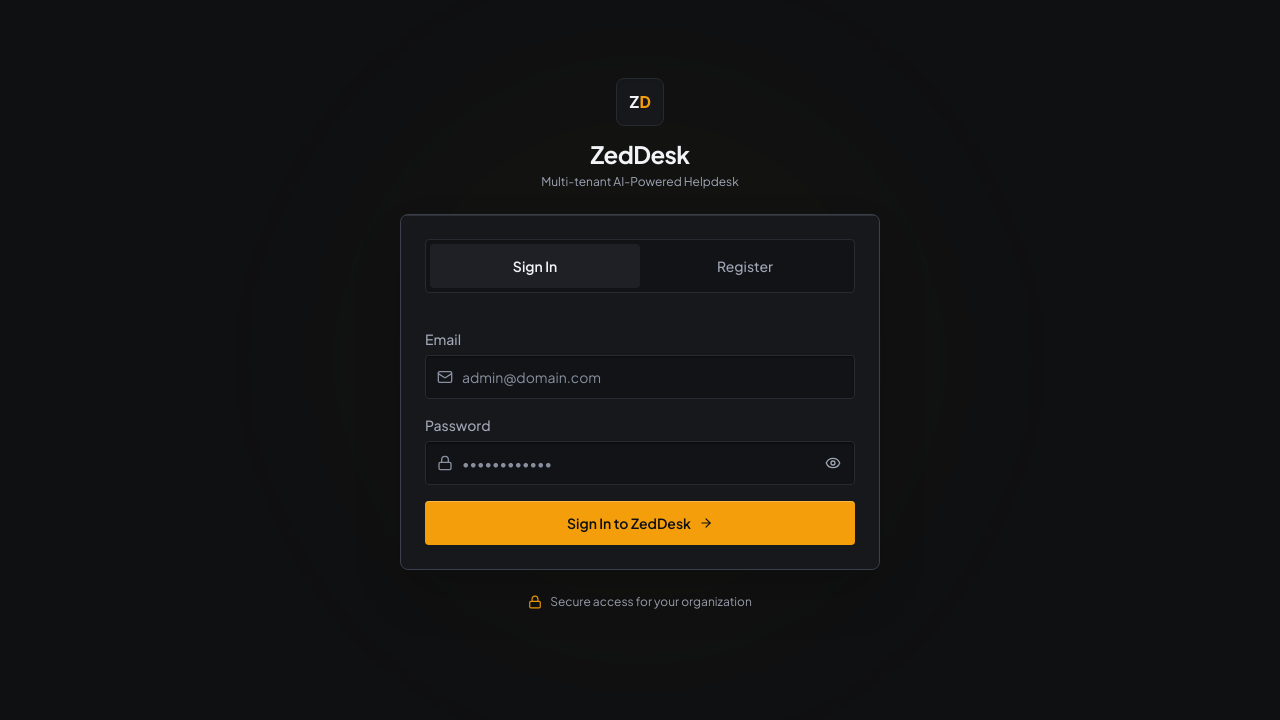
Scenario: Central Hub Authentication and Organization Flow › allows a registered user to log in, view organizations, and log out
The image size is (1280, 720).
Note: Login Form
Type "bob@example.com" into the field labelled "Email" at (640, 377), box top-left (425, 355), bottom-right (855, 399)
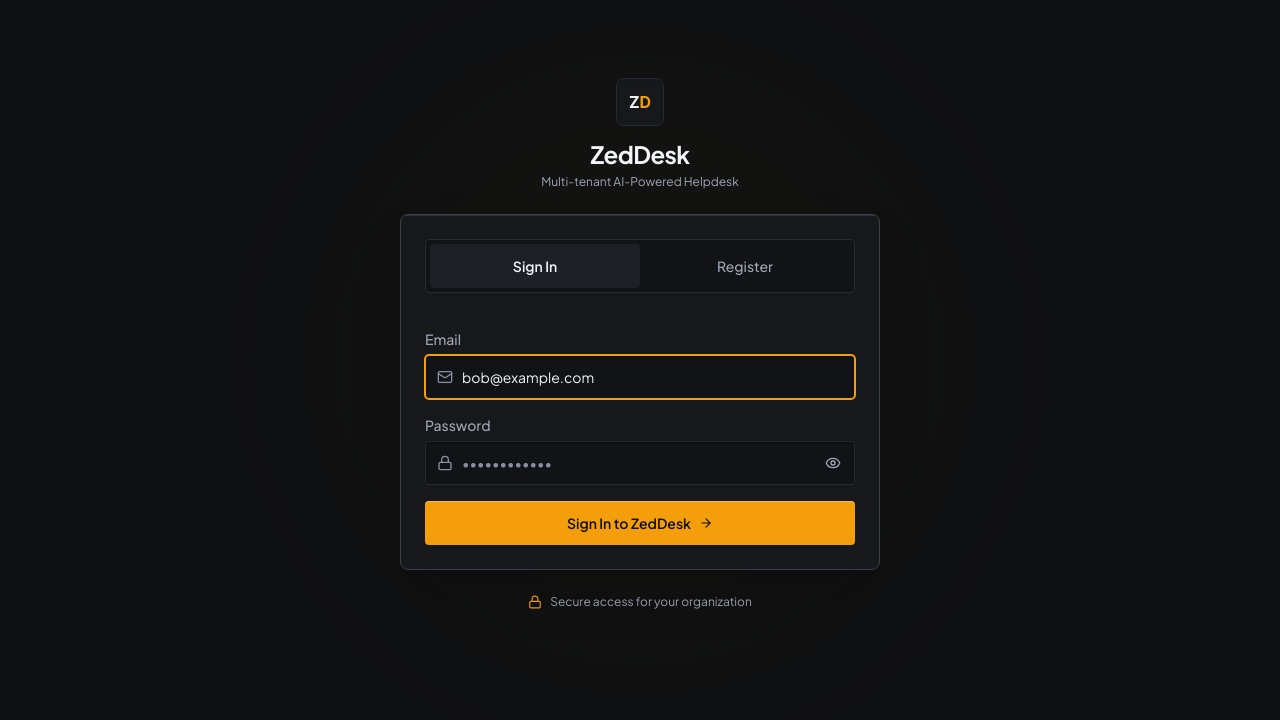
Type "Password123!" into the password field labelled "Password" at (640, 463), box top-left (425, 441), bottom-right (855, 485)
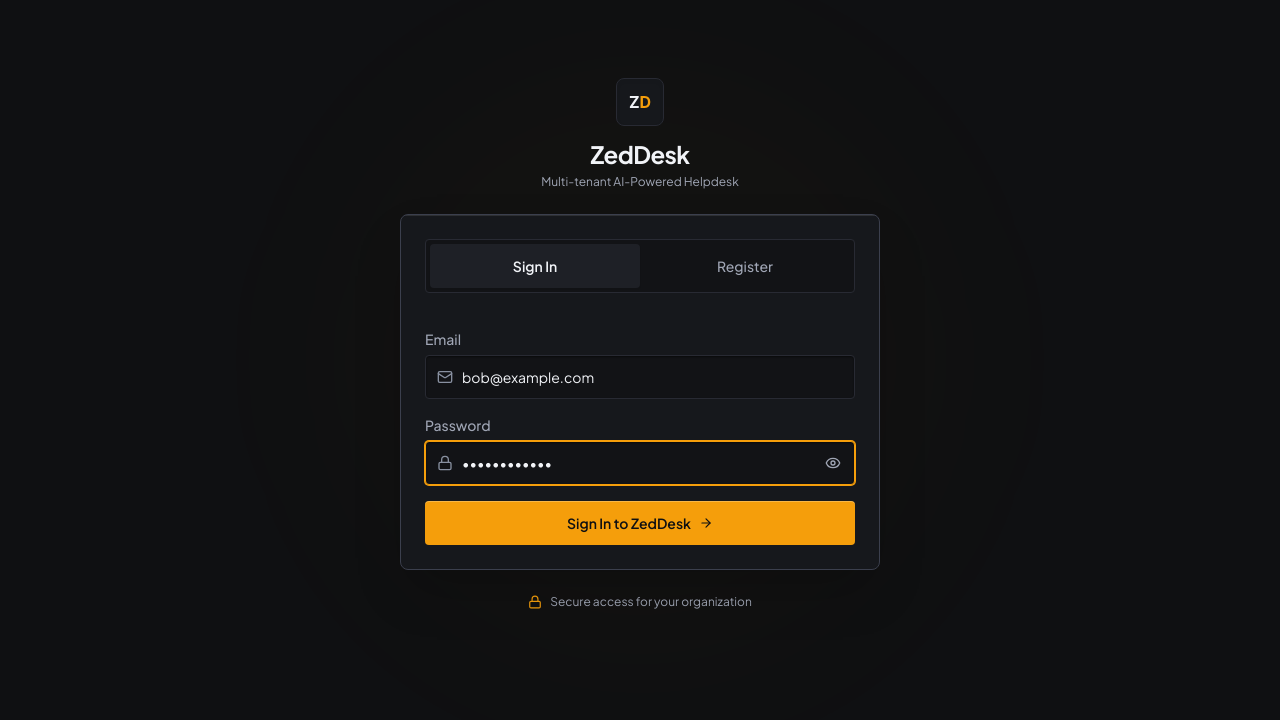
Click the button with aria-label "log in" at (640, 523), box top-left (425, 501), bottom-right (855, 545)
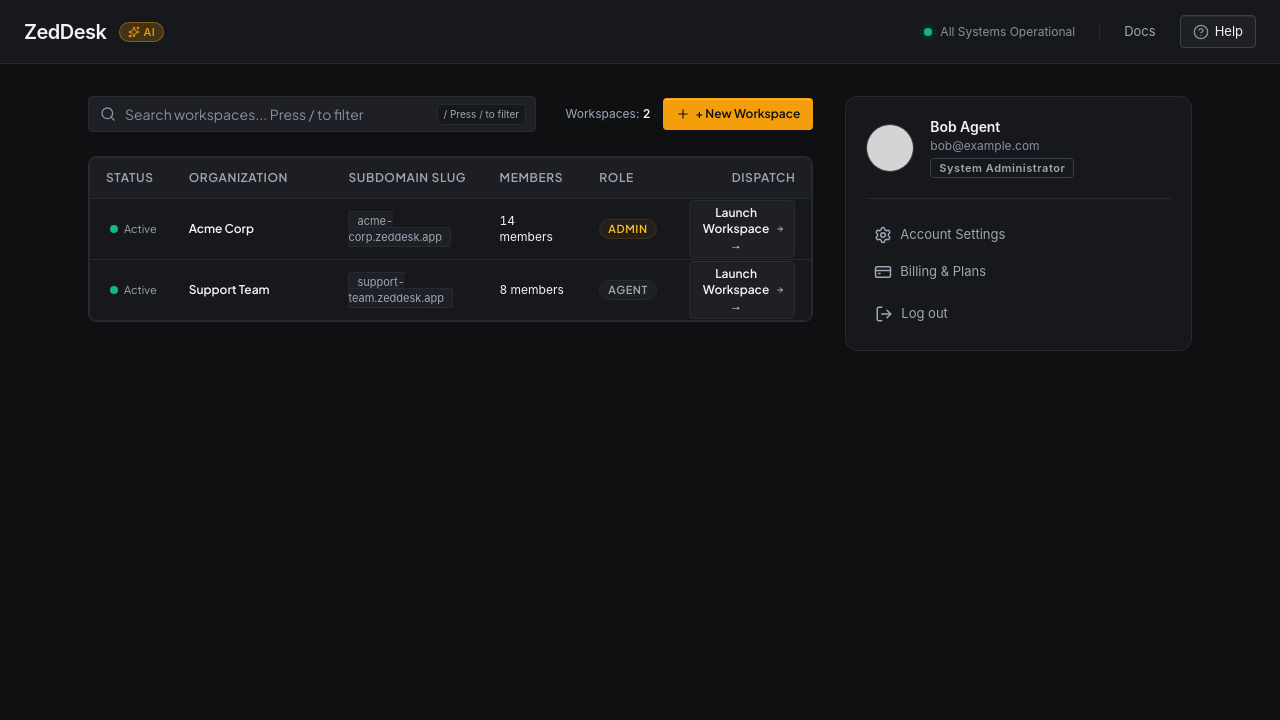
Result: the element with test id "central-hub-switchboard" is shown at top-left (88, 96), bottom-right (813, 322)
Note:  Log out
Click the button "Log out" at (925, 313), box top-left (866, 297), bottom-right (1171, 330)
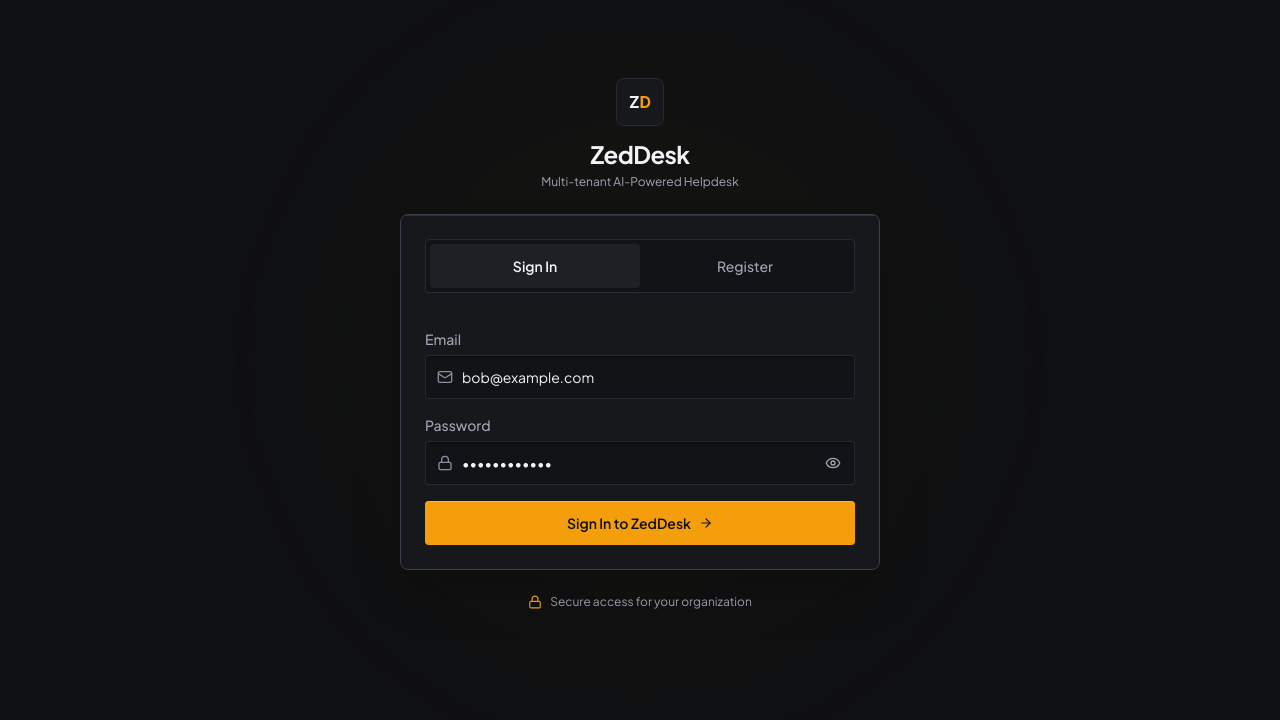
Result: the button with aria-label "log in" is shown at top-left (425, 501), bottom-right (855, 545)
